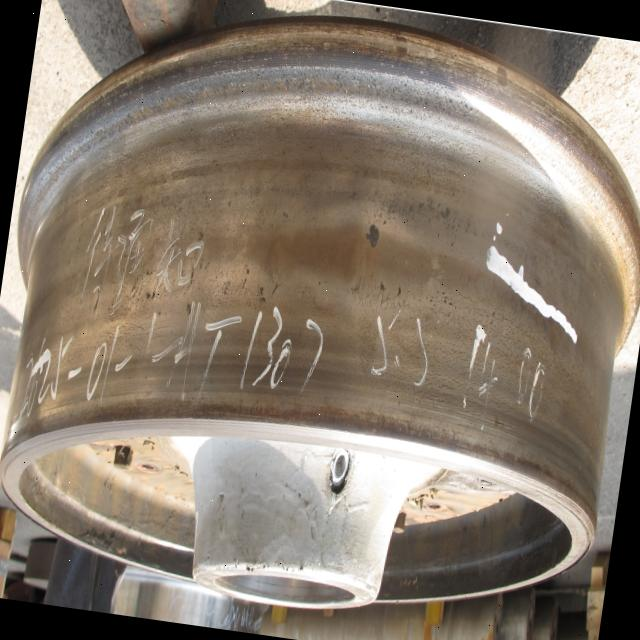Contact_Fatigue_Cracks: (353, 280, 412, 315)
